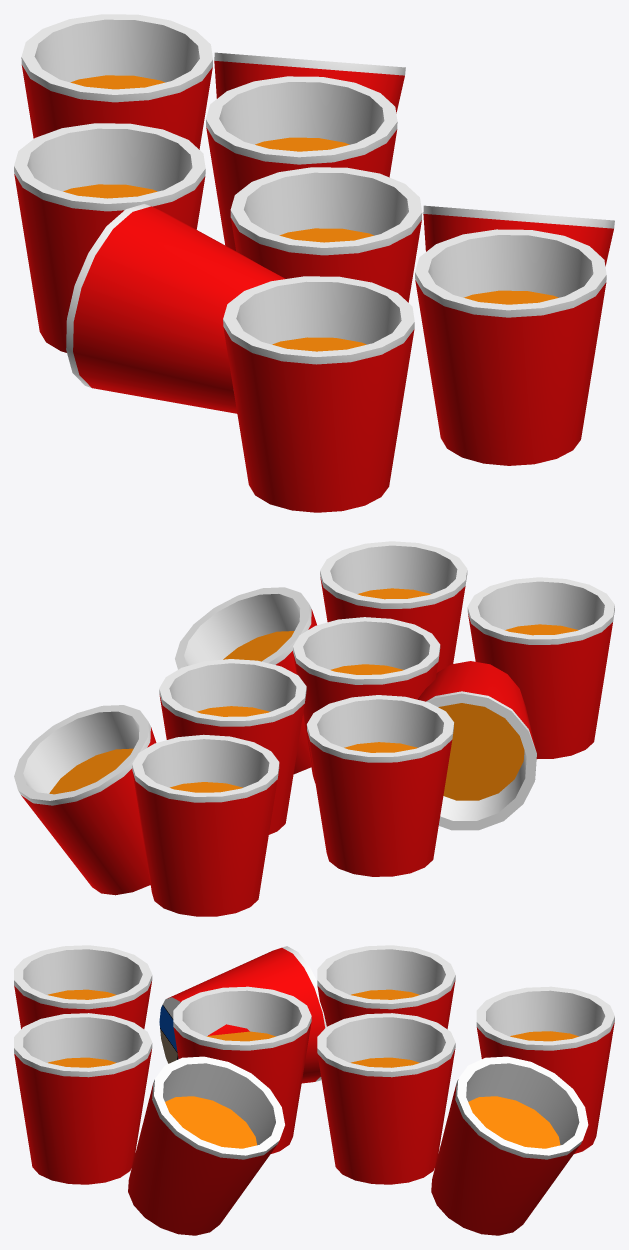
File: cup_bunch.fbx
The picture shows the model from 3 angles, top to bottom: view 1: azimuth 30°, elevation 25°; view 2: azimuth 150°, elevation 25°; view 3: azimuth 270°, elevation 25°; orthographic projection. The views are drawn at different scales.
Visible parts, largest first — view 1: Cylinder.004; view 2: Cylinder.004; view 3: Cylinder.004.
Part boxes in pixels (x1,y1,x2,y2): Cylinder.004: (14, 14, 614, 512); Cylinder.004: (14, 541, 614, 916); Cylinder.004: (14, 945, 614, 1235).
Size of the model in its own units: 64.97 by 28.06 by 93.85.
